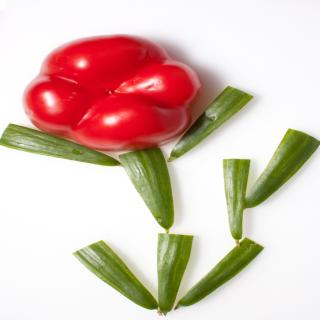tomato: (21, 34, 204, 153)
